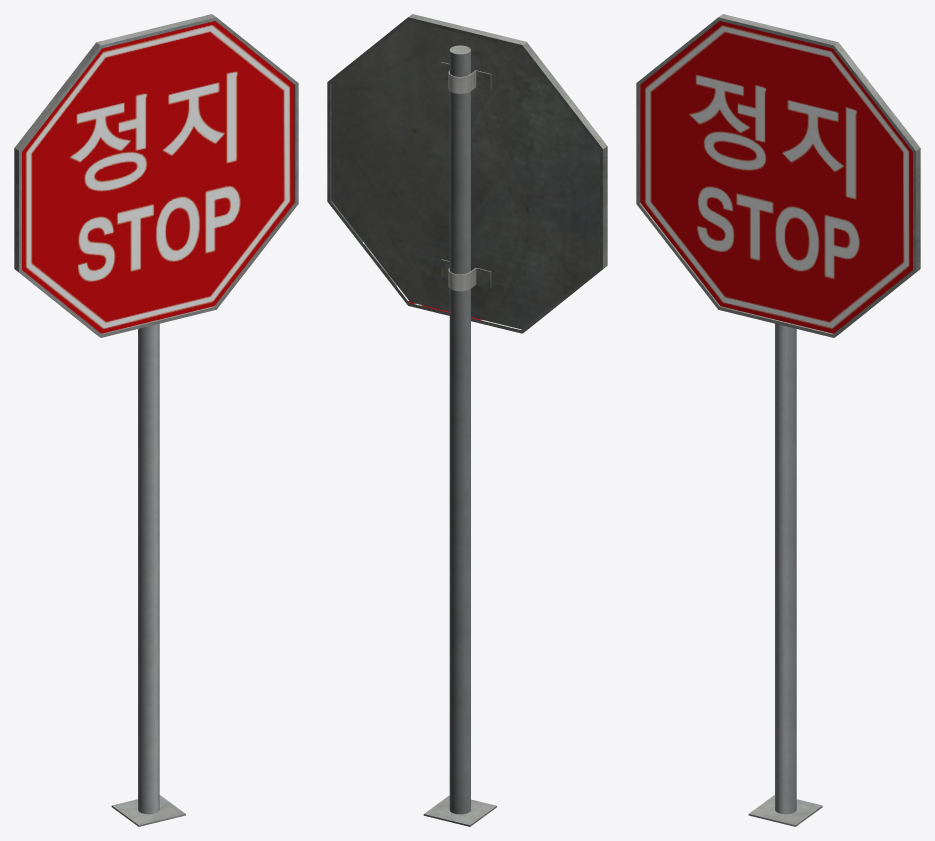
3 views of the same model, side by side, from view 1: azimuth 30°, elevation 25°; view 2: azimuth 150°, elevation 25°; view 3: azimuth 330°, elevation 25° (orthographic).
Parts seen in each view (by area): view 1: MainBuilding; view 2: MainBuilding; view 3: MainBuilding.
Boxes of the visible parts, x1,y1,x2,y2 form: MainBuilding: (14, 14, 298, 826); MainBuilding: (327, 14, 607, 826); MainBuilding: (636, 14, 920, 826).
Bounding box in the file's own units: 0.8925 × 2.4 × 0.15.
1 material, 1 textured.
